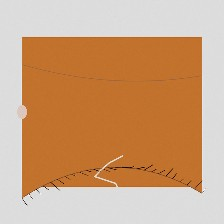foreign_body_visible: (87, 94, 118, 119)
